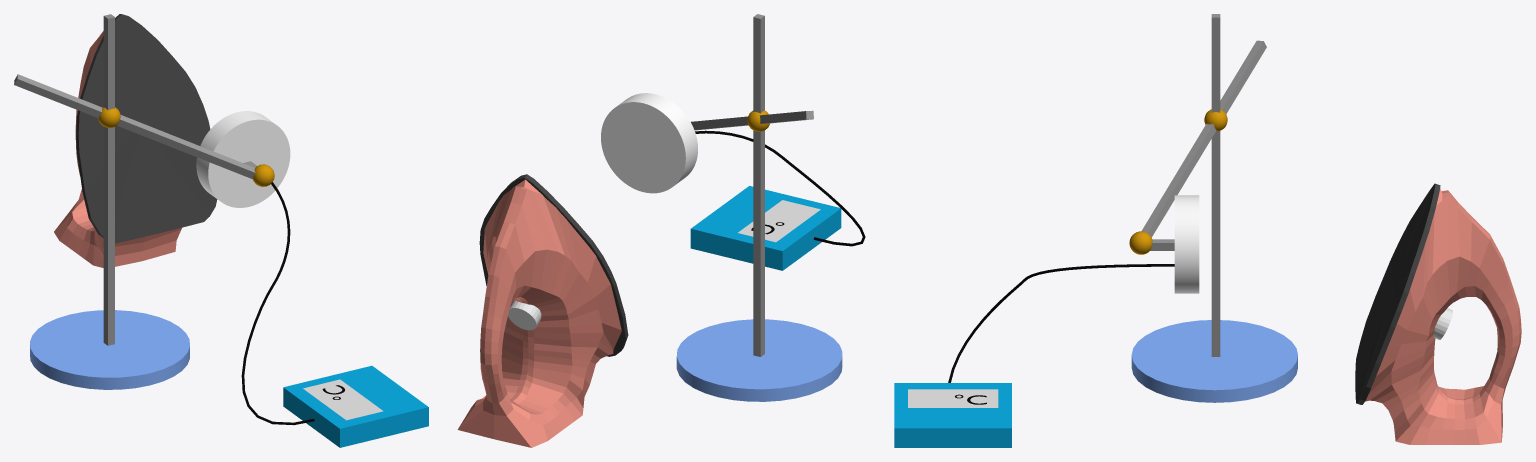
The model's file is bakc.glb.
3 views of the same model, side by side, from view 1: azimuth 30°, elevation 25°; view 2: azimuth 150°, elevation 25°; view 3: azimuth 270°, elevation 25° (orthographic). The views are drawn at different scales.
Visible parts, largest first — view 1: IronPlate, Holder2.001, Thermometer, Target, IronBody, Holder2.002, Holder2.004, Thermometer2, Wire; view 2: IronBody, Holder2.001, Target, Thermometer, Holder2.002, IronPlate, Thermometer2, Holder2.004, Wire, IronKnob; view 3: IronBody, Holder2.001, Thermometer, IronPlate, Holder2.002, Holder2.004, Target, Thermometer2, Wire.
Part boxes in pixels (box(x1,y1,x2,y2)): IronPlate: box(76, 14, 217, 243); Holder2.001: box(30, 310, 189, 389); Thermometer: box(283, 365, 428, 447); Target: box(196, 111, 290, 207); IronBody: box(54, 31, 181, 267); Holder2.002: box(103, 14, 114, 345); Holder2.004: box(14, 74, 255, 179); Thermometer2: box(303, 379, 383, 420); Wire: box(241, 182, 314, 425); IronBody: box(457, 179, 621, 447); Holder2.001: box(676, 319, 842, 401); Target: box(601, 93, 697, 193); Thermometer: box(690, 186, 841, 270); Holder2.002: box(753, 14, 764, 356); IronPlate: box(479, 174, 628, 356); Thermometer2: box(738, 200, 820, 242); Holder2.004: box(691, 110, 813, 130); Wire: box(695, 130, 865, 246); IronKnob: box(508, 300, 541, 330); IronBody: box(1365, 188, 1521, 444); Holder2.001: box(1131, 320, 1297, 402); Thermometer: box(894, 383, 1011, 447); IronPlate: box(1355, 183, 1440, 404); Holder2.002: box(1211, 14, 1220, 356); Holder2.004: box(1141, 40, 1266, 237); Target: box(1174, 195, 1199, 293); Thermometer2: box(908, 389, 998, 407); Wire: box(948, 264, 1174, 382).
Size of the model in its own units: 2.27 by 2.84 by 4.59.
